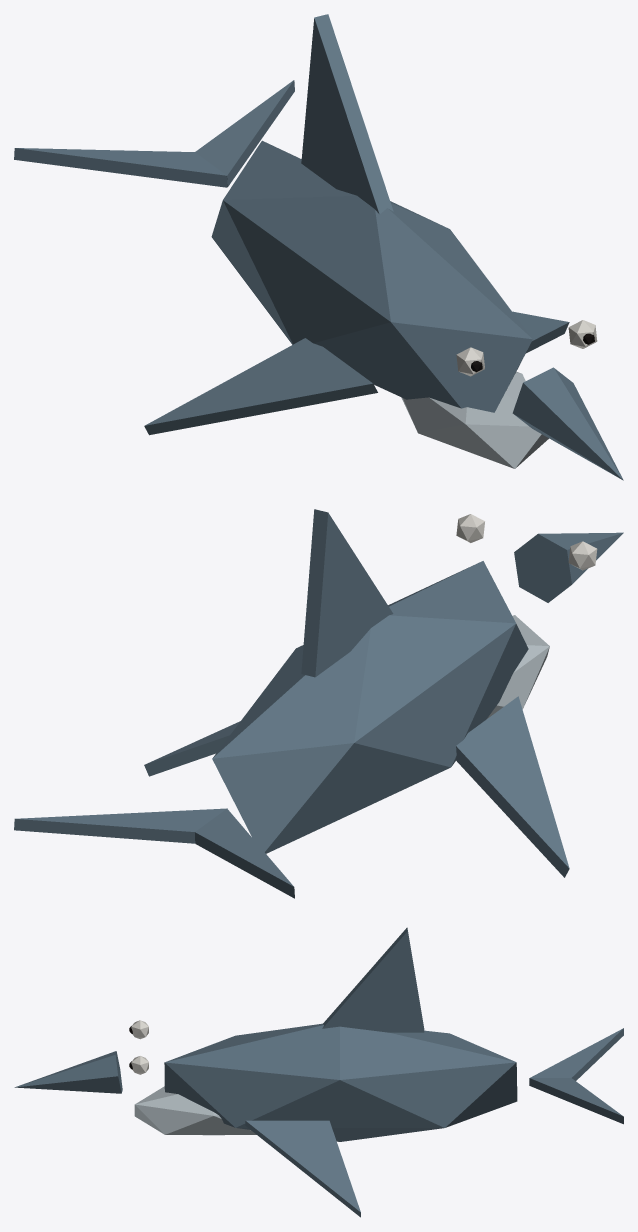
Rendered from animal_dolphin.glb.
The picture shows the model from 3 angles, top to bottom: view 1: azimuth 30°, elevation 25°; view 2: azimuth 150°, elevation 25°; view 3: azimuth 270°, elevation 25°; orthographic projection. The views are drawn at different scales.
Parts seen in each view (by area): view 1: animal_dolphin; view 2: animal_dolphin; view 3: animal_dolphin.
Boxes of the visible parts, x1,y1,x2,y2 form: animal_dolphin: [14, 14, 623, 480]; animal_dolphin: [14, 509, 623, 898]; animal_dolphin: [14, 927, 623, 1217].
Size of the model in its own units: 1.52 by 1.17 by 2.9.
